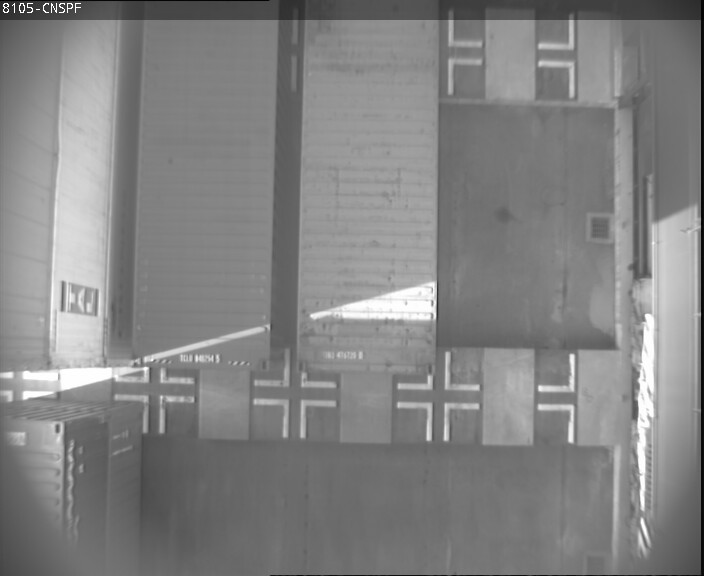groundmarker_1: (536, 351, 581, 443), (533, 10, 578, 102), (441, 8, 484, 95), (111, 394, 194, 436), (252, 398, 335, 440), (397, 402, 480, 444), (395, 349, 478, 391)
